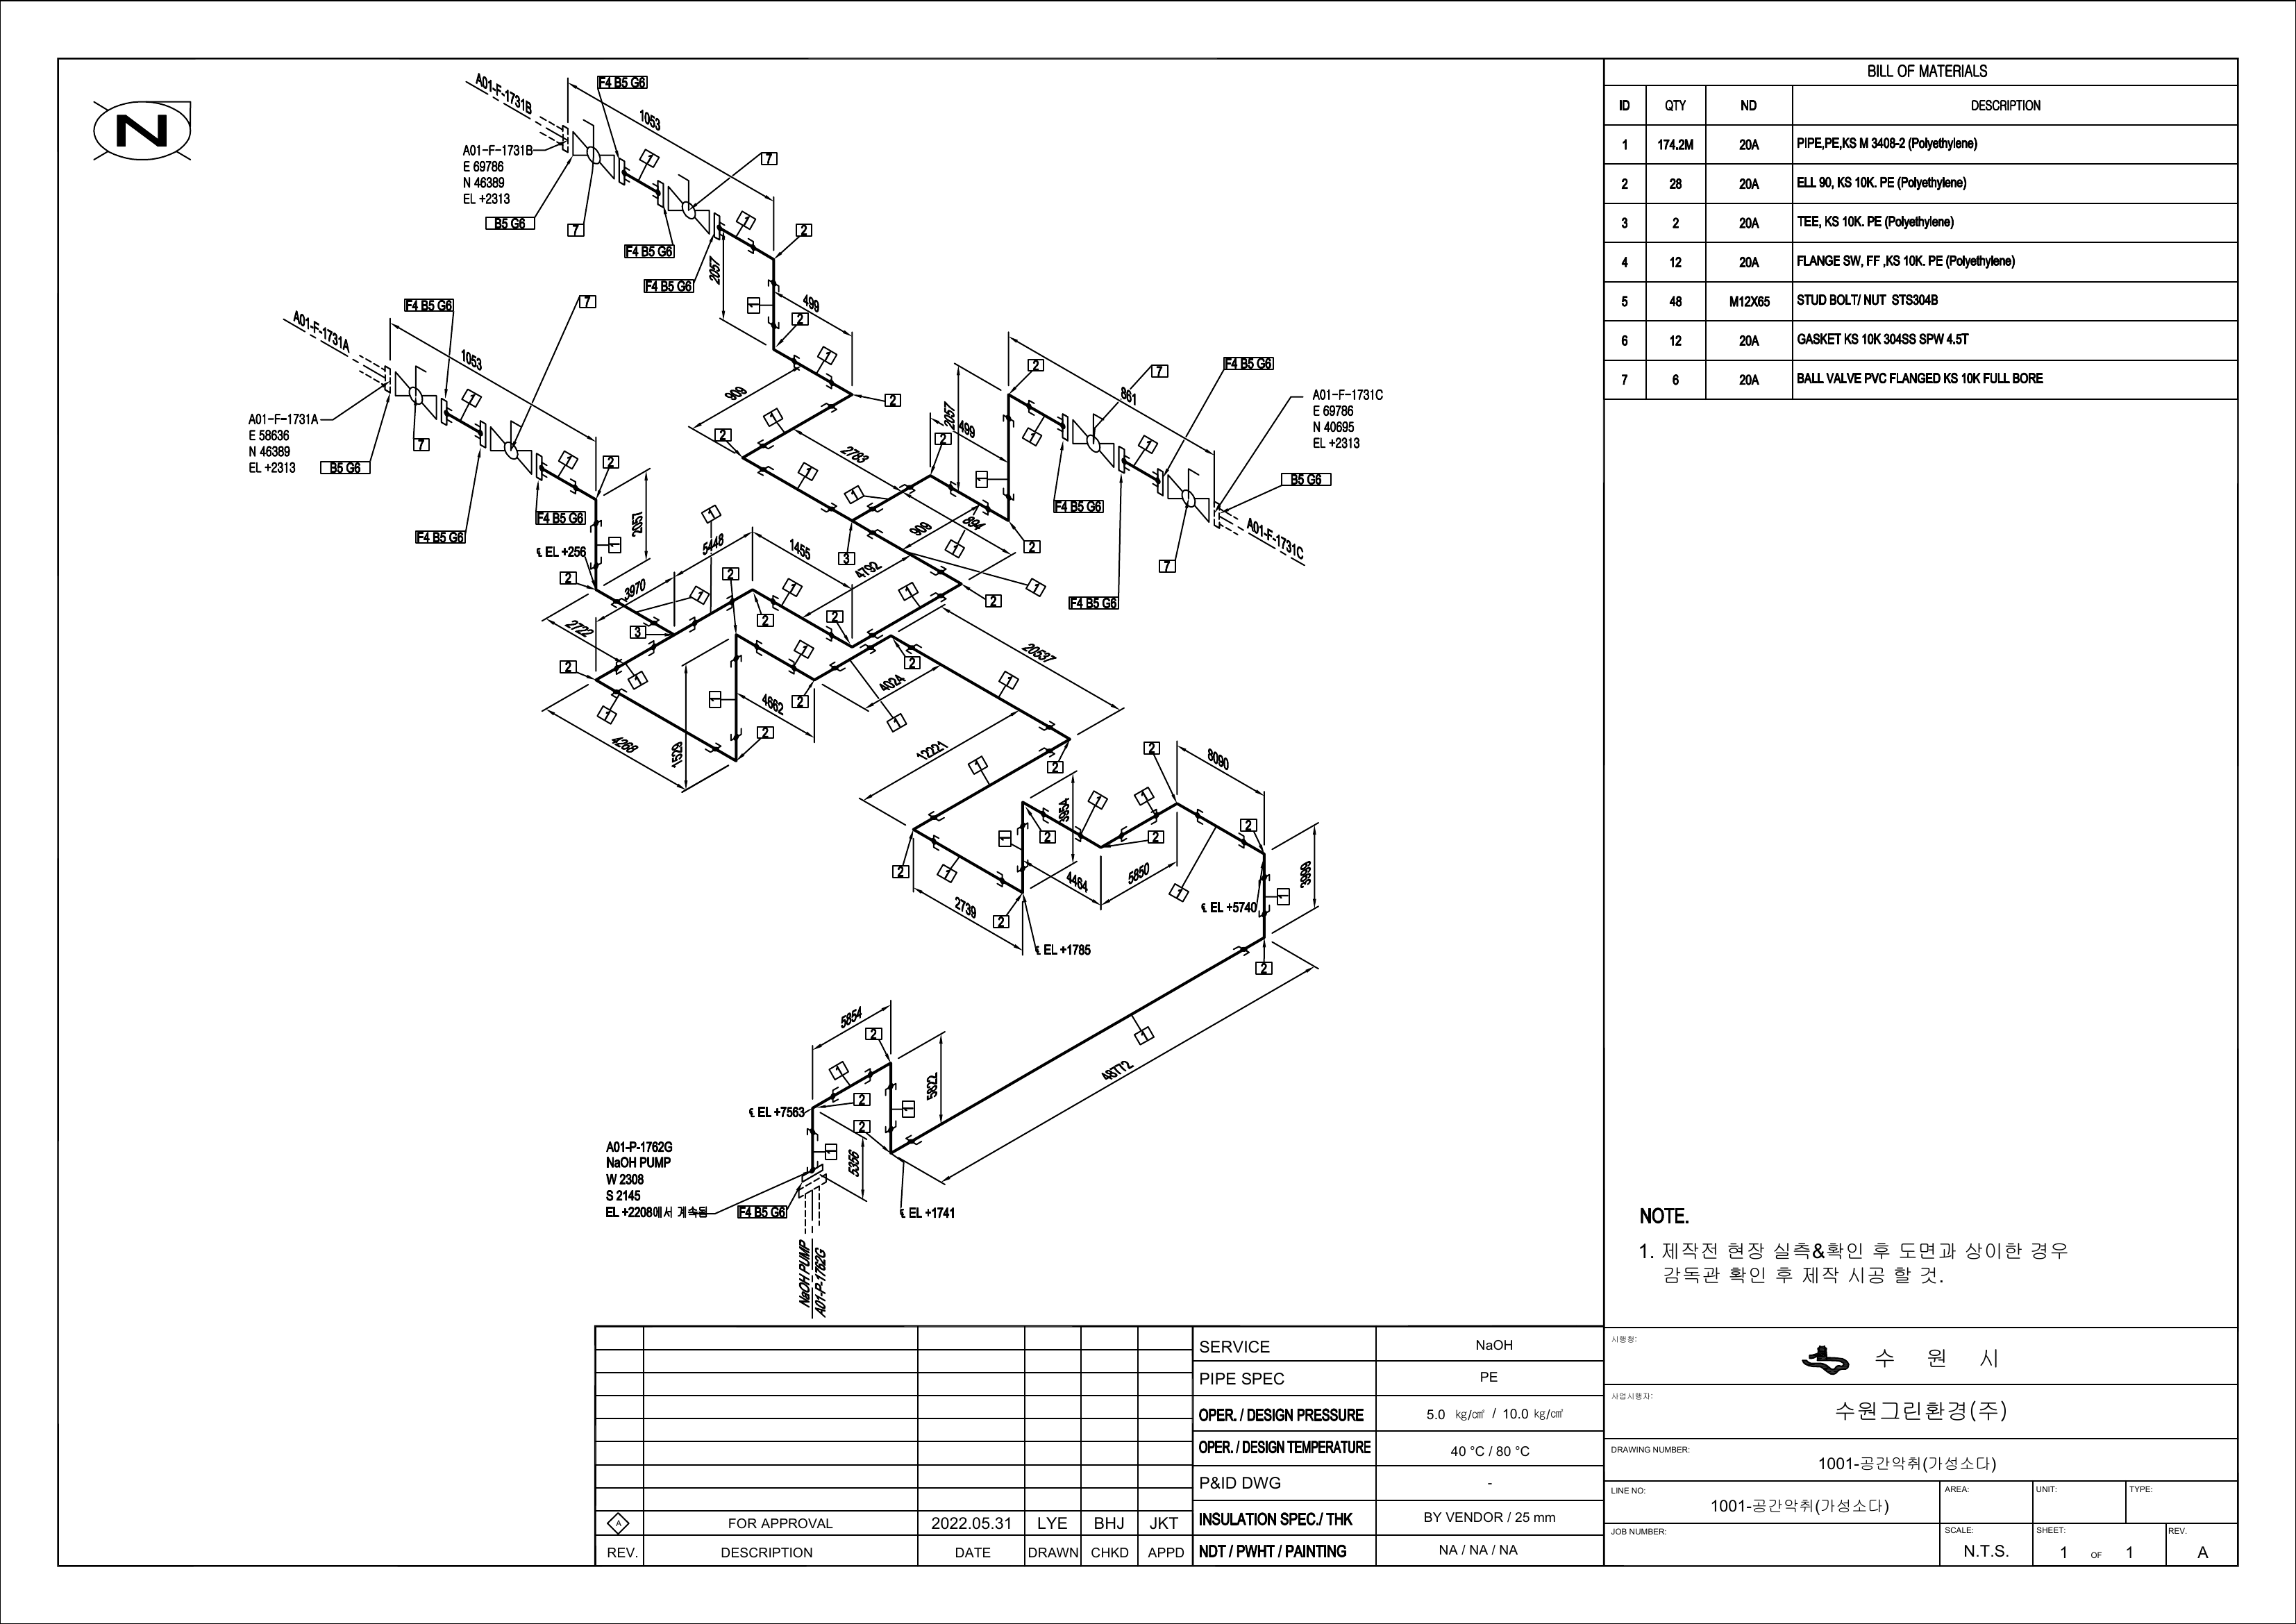table: (1597, 49, 2243, 404)
